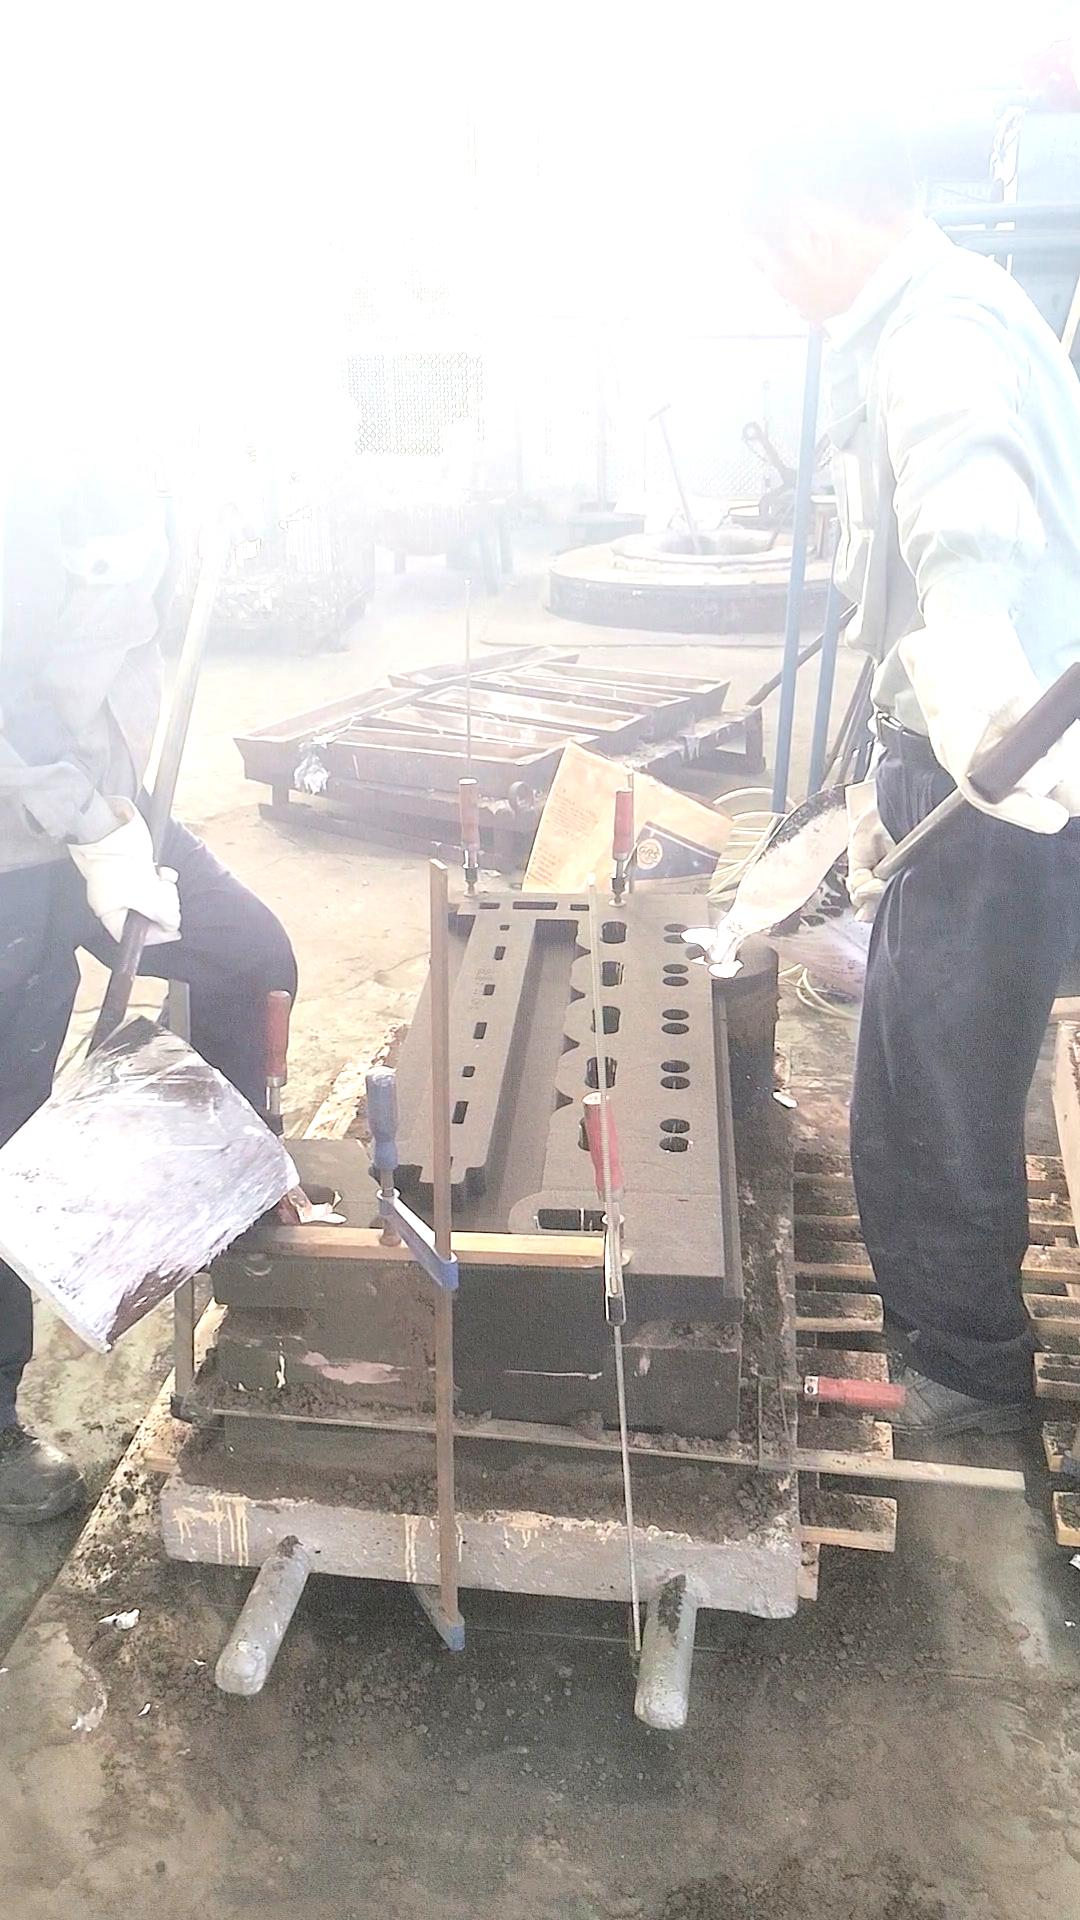pouring hole: (268, 1184, 340, 1220), (683, 944, 741, 965)
